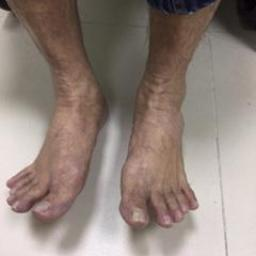Front View -Both Feet-: (4, 40, 211, 232)
